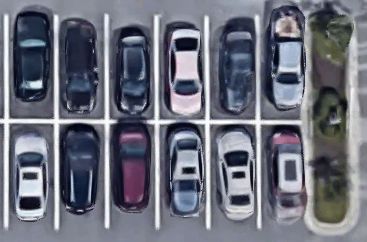Occupied: (157, 122, 209, 229), (6, 15, 57, 123), (56, 15, 107, 122), (207, 15, 258, 121), (107, 121, 157, 229), (107, 15, 157, 122), (57, 122, 107, 229), (6, 122, 56, 229), (209, 121, 258, 230), (157, 15, 207, 121), (257, 16, 306, 122), (259, 121, 306, 229)
